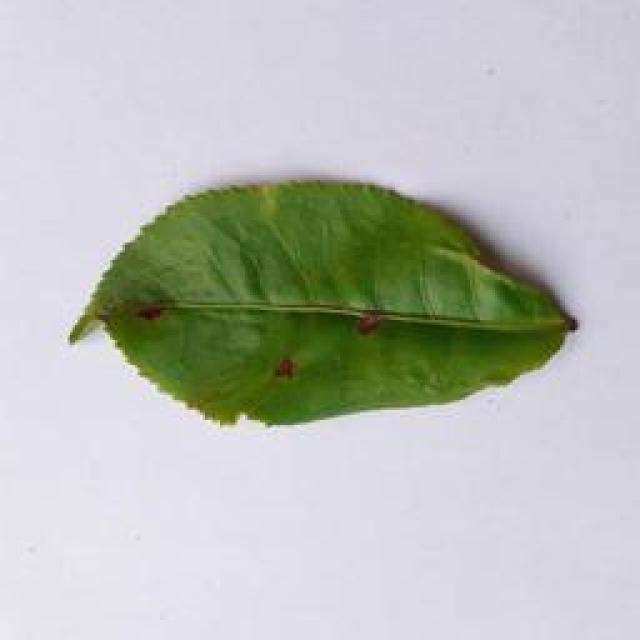Helopeltis: (56, 168, 601, 428)
